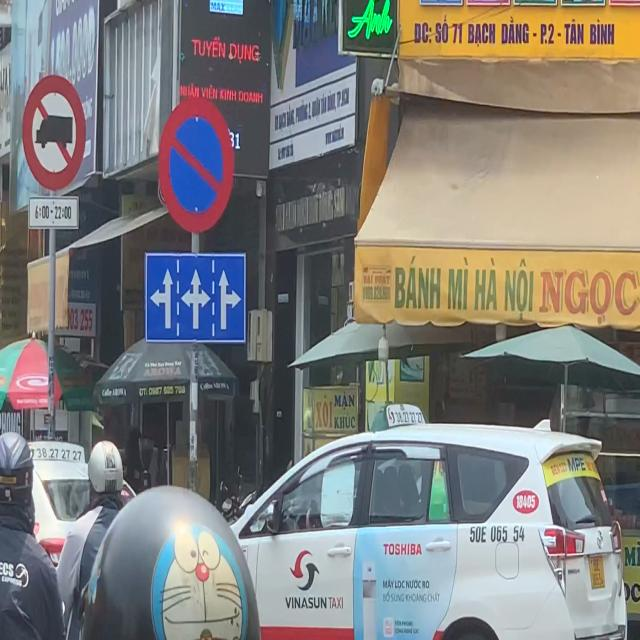Cam con lai: (23, 74, 87, 188)
Cam do: (156, 96, 236, 236)
